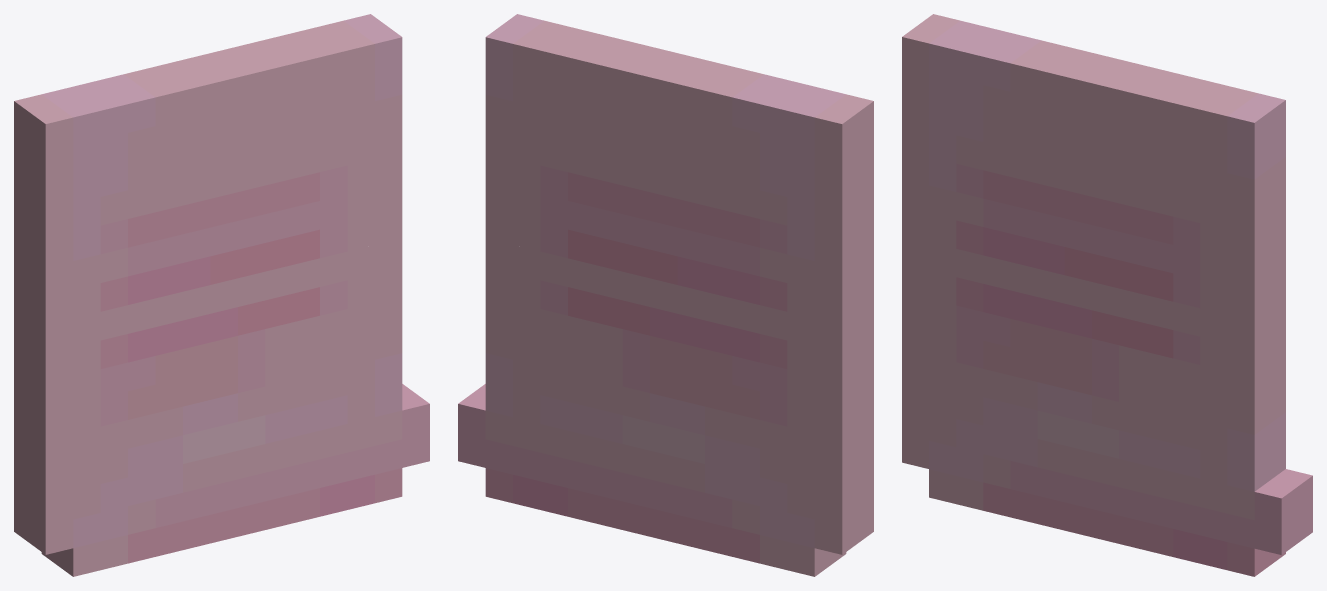
File: page-pink.glb
The picture shows the model from 3 angles, left to right: view 1: azimuth 30°, elevation 25°; view 2: azimuth 150°, elevation 25°; view 3: azimuth 330°, elevation 25°; orthographic projection.
Visible parts, largest first — view 1: prop; view 2: prop; view 3: prop.
Boxes of the visible parts, bbox=[...] form: prop: bbox=[14, 14, 429, 576]; prop: bbox=[458, 14, 873, 576]; prop: bbox=[902, 14, 1312, 576].
Size of the model in its own units: 14 by 16 by 2.
